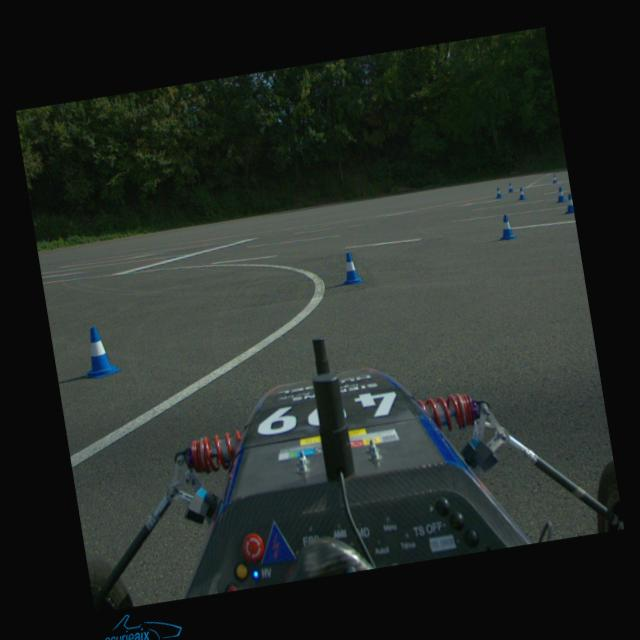blue_cone: (79, 324, 122, 380), (338, 251, 365, 286), (496, 214, 516, 242), (562, 194, 574, 215), (556, 186, 566, 202), (517, 188, 527, 200), (494, 187, 502, 199), (506, 182, 514, 192), (552, 174, 558, 183)
